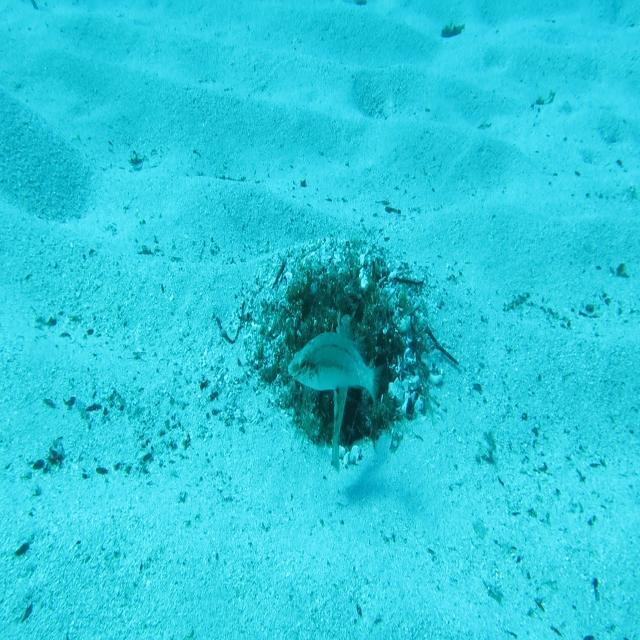FAN: (328, 309, 356, 476)
core_nest: (313, 290, 353, 320)
female: (287, 328, 385, 413)
nest: (234, 231, 448, 485)
vegetation: (441, 20, 464, 40)
